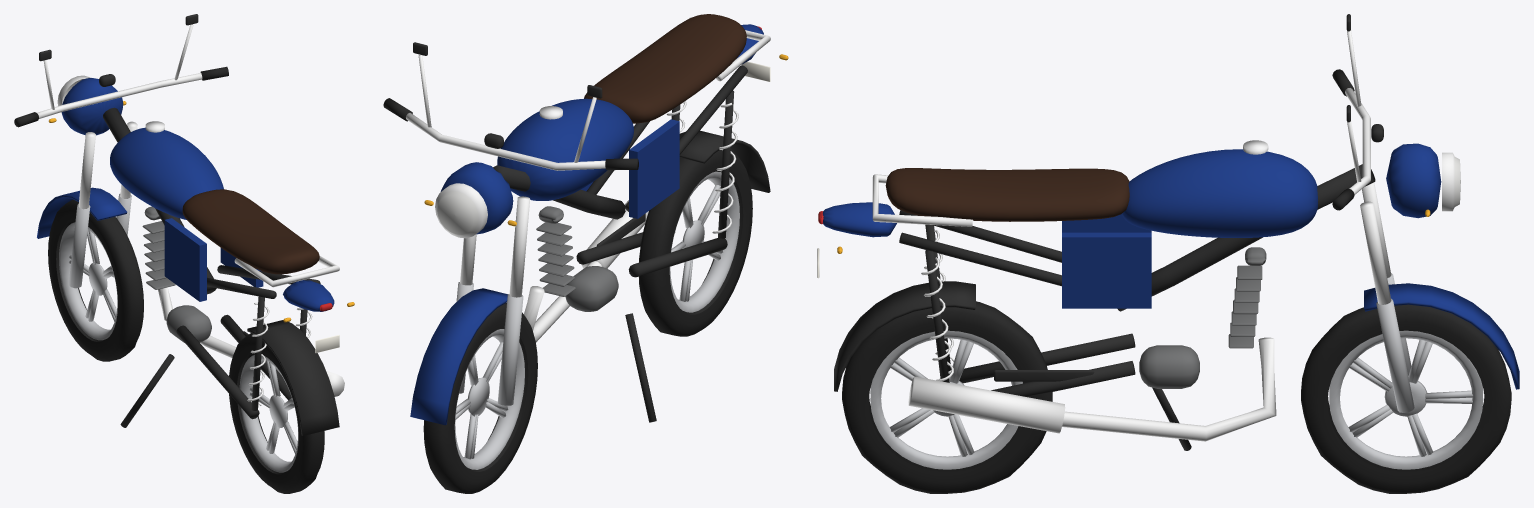
Rendered from bike_2.glb.
3 views of the same model, side by side, from view 1: azimuth 30°, elevation 25°; view 2: azimuth 150°, elevation 25°; view 3: azimuth 270°, elevation 25° (orthographic). The views are drawn at different scales.
Visible parts, largest first — view 1: body, wheel_0, wheel_1; view 2: body, wheel_1, wheel_0; view 3: body, wheel_0, wheel_1.
Part boxes in pixels (box(x1,y1,x2,y2)): body: box(14, 14, 354, 435); wheel_0: box(48, 199, 143, 361); wheel_1: box(229, 333, 324, 493); body: box(383, 14, 788, 425); wheel_1: box(639, 148, 752, 336); wheel_0: box(423, 303, 537, 493); body: box(817, 14, 1519, 450); wheel_0: box(1301, 304, 1511, 493); wheel_1: box(842, 301, 1052, 493).
Bounding box in the file's own units: 0.8708 × 1.32 × 1.96.
